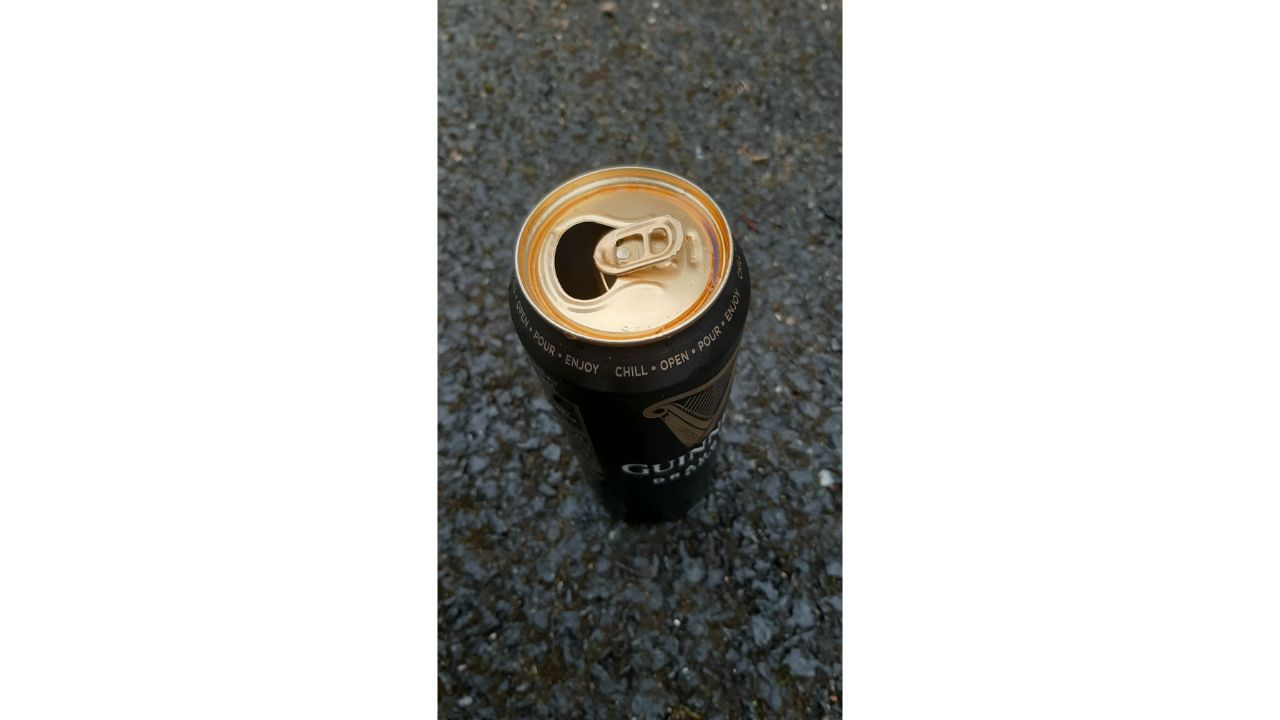Can: (493, 152, 759, 540)
